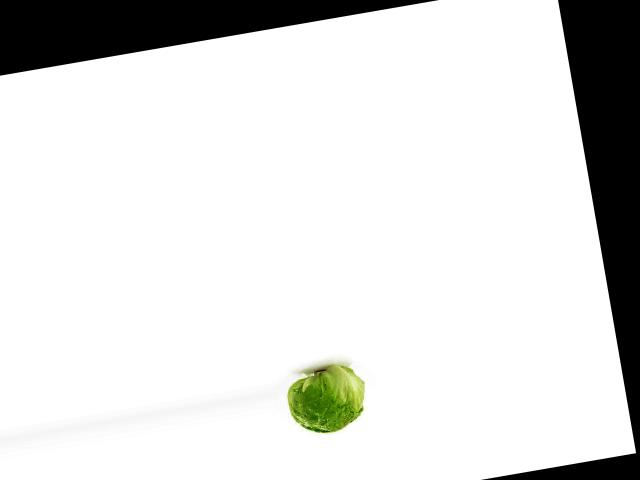lettuce: (274, 365, 372, 442)
